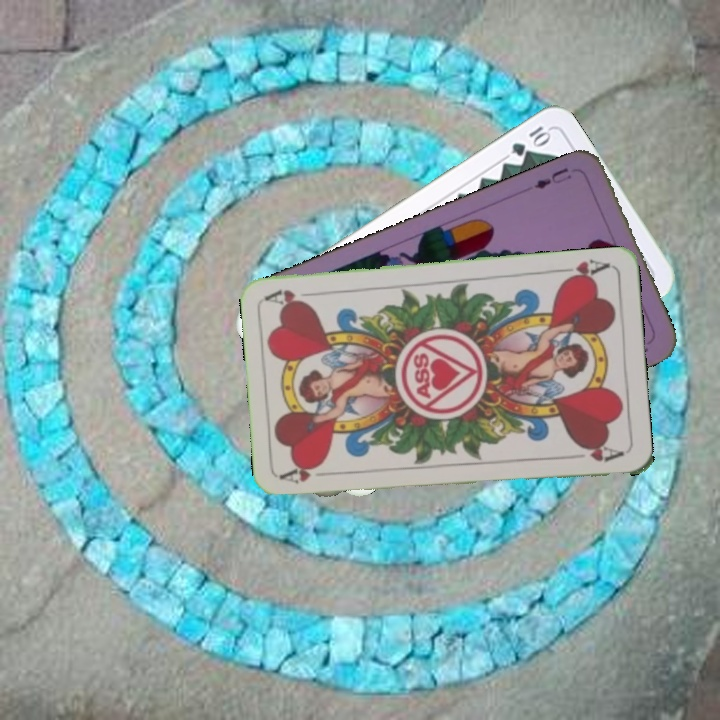EU: (530, 163, 574, 192)
G10: (507, 122, 554, 159)
HA: (553, 255, 613, 285), (278, 462, 337, 487)
